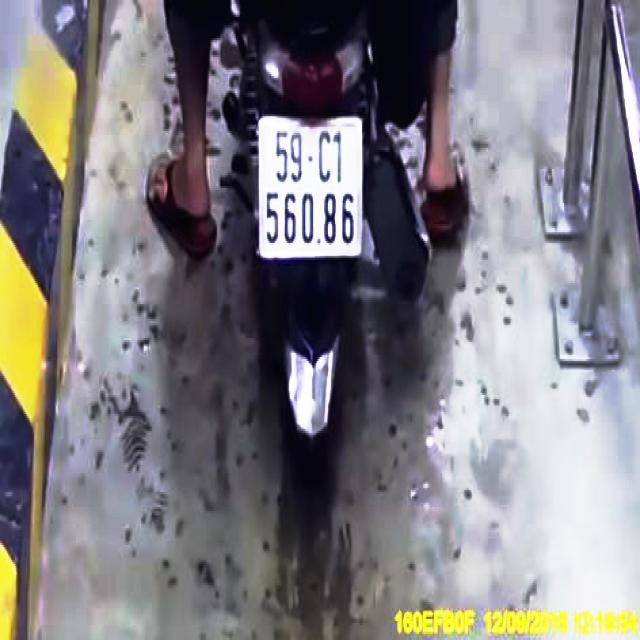license_plate: (261, 120, 362, 257)
